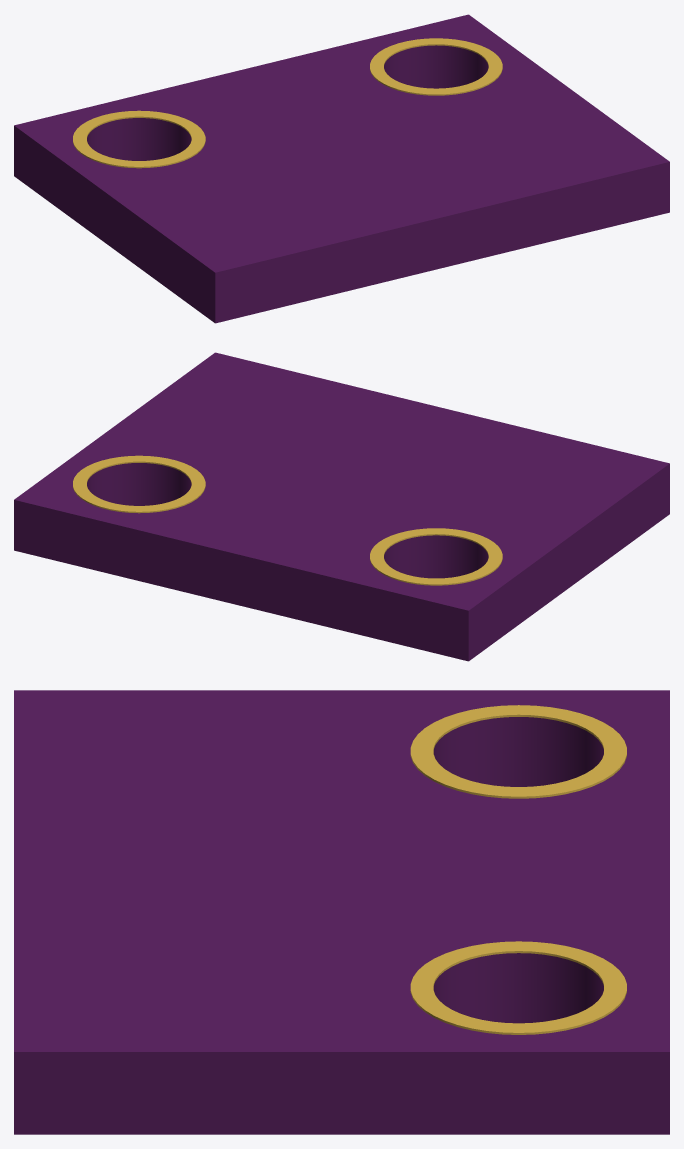
The model's file is gy-bmp280.glb.
3 views of the same model, one above another, from view 1: azimuth 30°, elevation 25°; view 2: azimuth 150°, elevation 25°; view 3: azimuth 270°, elevation 25° (orthographic). The views are drawn at different scales.
Size of the model in its own units: 0.015 by 0.00164 by 0.0115.
